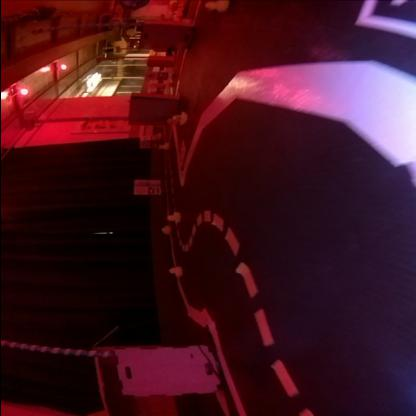Duckie: (204, 1, 226, 12), (172, 112, 186, 126), (168, 267, 180, 277), (166, 213, 178, 223), (160, 226, 168, 234)
